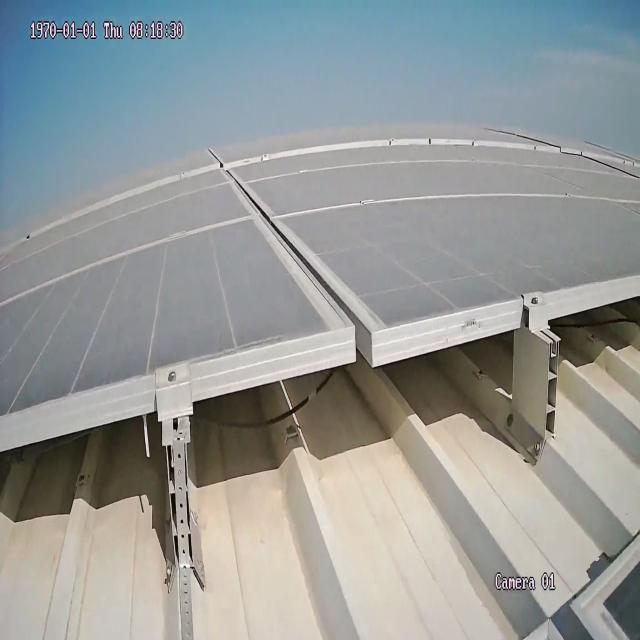interior panel: (221, 174, 387, 329)
outher panel: (0, 278, 640, 640)
